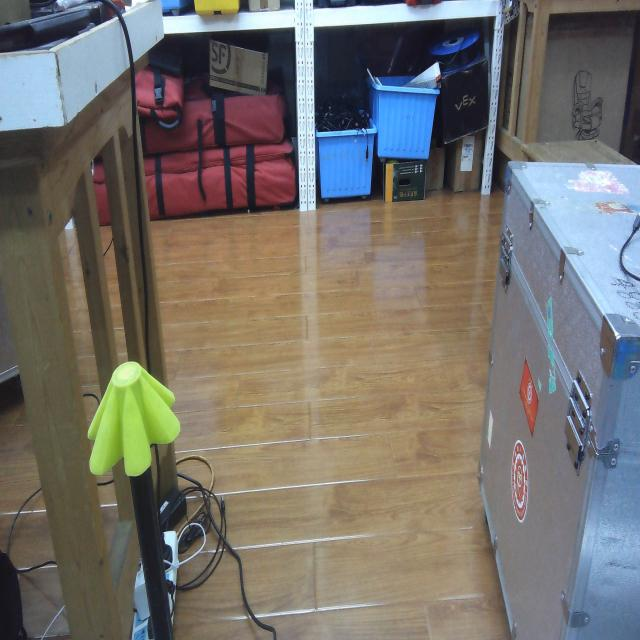Yellow-Stake-Head: (87, 361, 181, 477)
